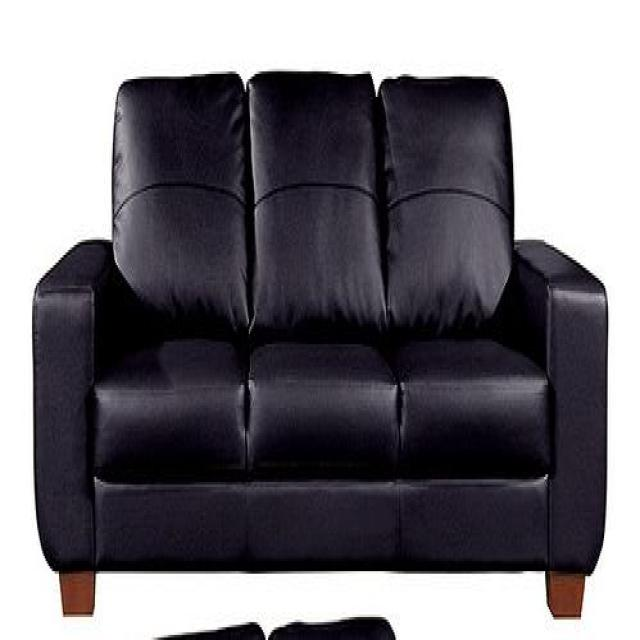sofa: (31, 66, 609, 625)
